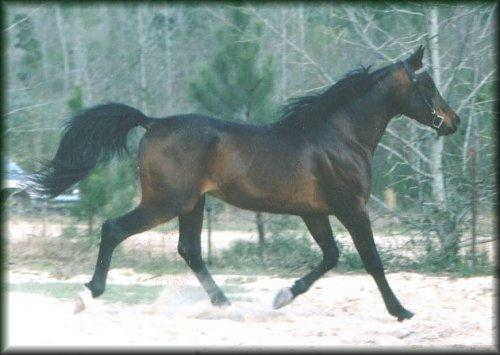horse: (13, 43, 461, 321)
